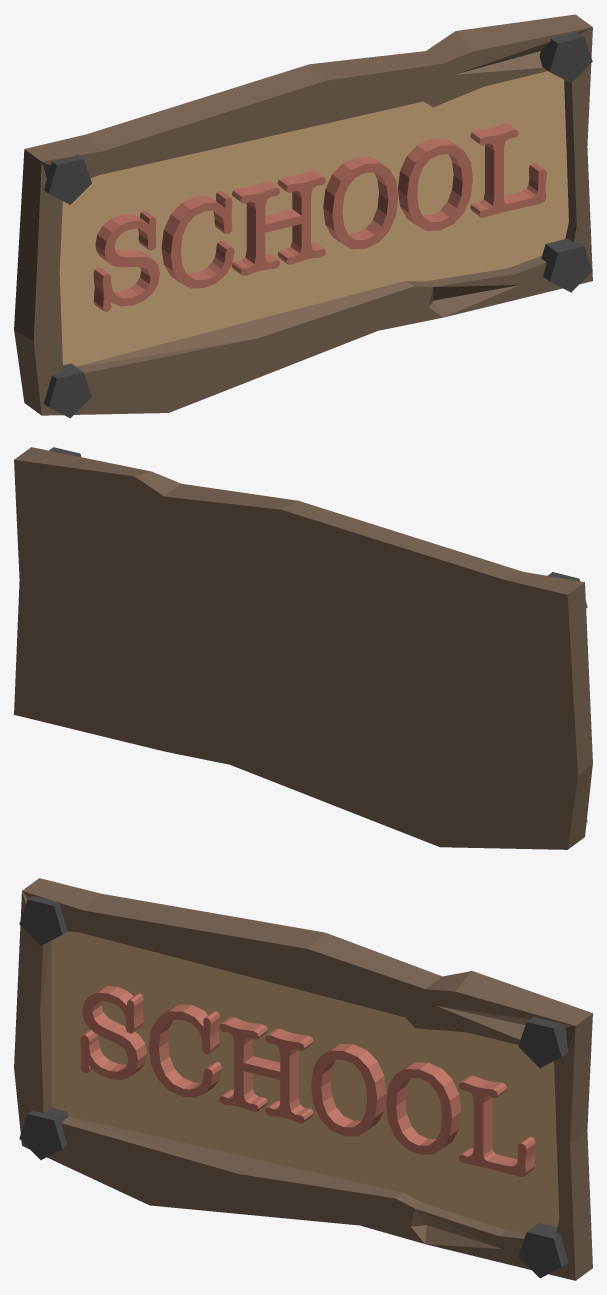
Rendered from Signboard_School.fbx.
3 views of the same model, one above another, from view 1: azimuth 30°, elevation 25°; view 2: azimuth 150°, elevation 25°; view 3: azimuth 330°, elevation 25° (orthographic).
Visible parts, largest first — view 1: Signboard_School; view 2: Signboard_School; view 3: Signboard_School.
Boxes of the visible parts, bbox=[...] form: Signboard_School: bbox=[14, 14, 592, 418]; Signboard_School: bbox=[14, 447, 592, 849]; Signboard_School: bbox=[14, 878, 592, 1280].
Size of the model in its own units: 177 by 13.26 by 89.66.
